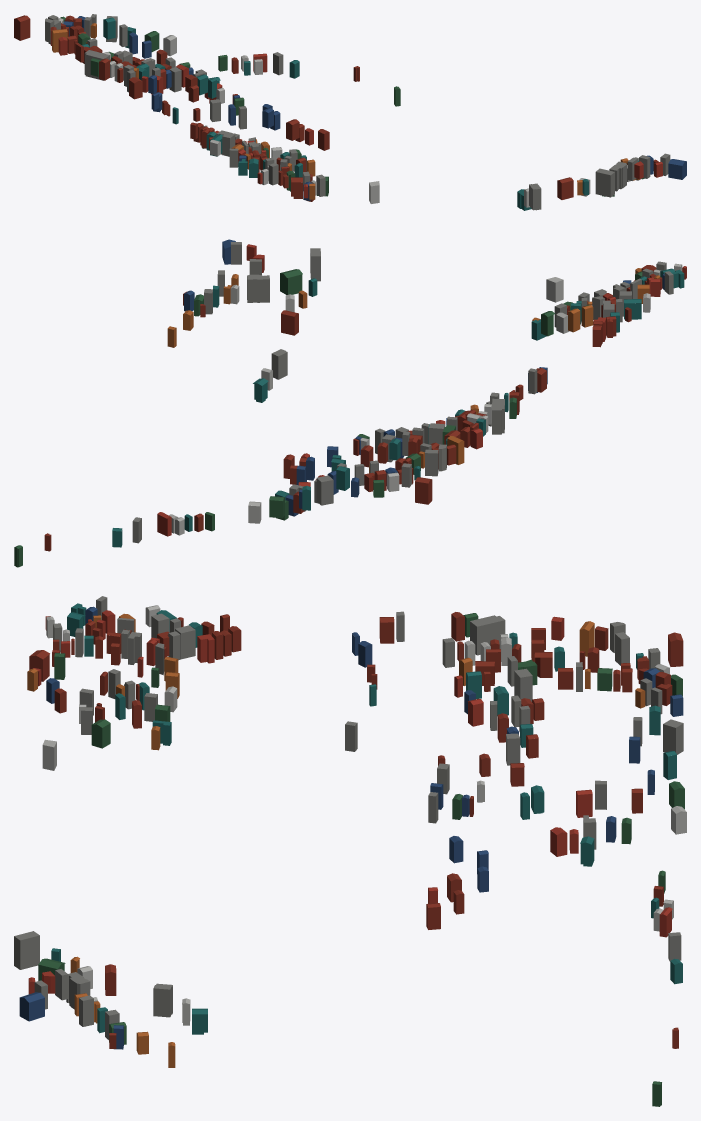
Rendered from near-16-54727-29744.a539fa10.glb.
3 views of the same model, one above another, from view 1: azimuth 30°, elevation 25°; view 2: azimuth 150°, elevation 25°; view 3: azimuth 270°, elevation 25° (orthographic). The views are drawn at different scales.
Size of the model in its own units: 591 by 259 by 597.
